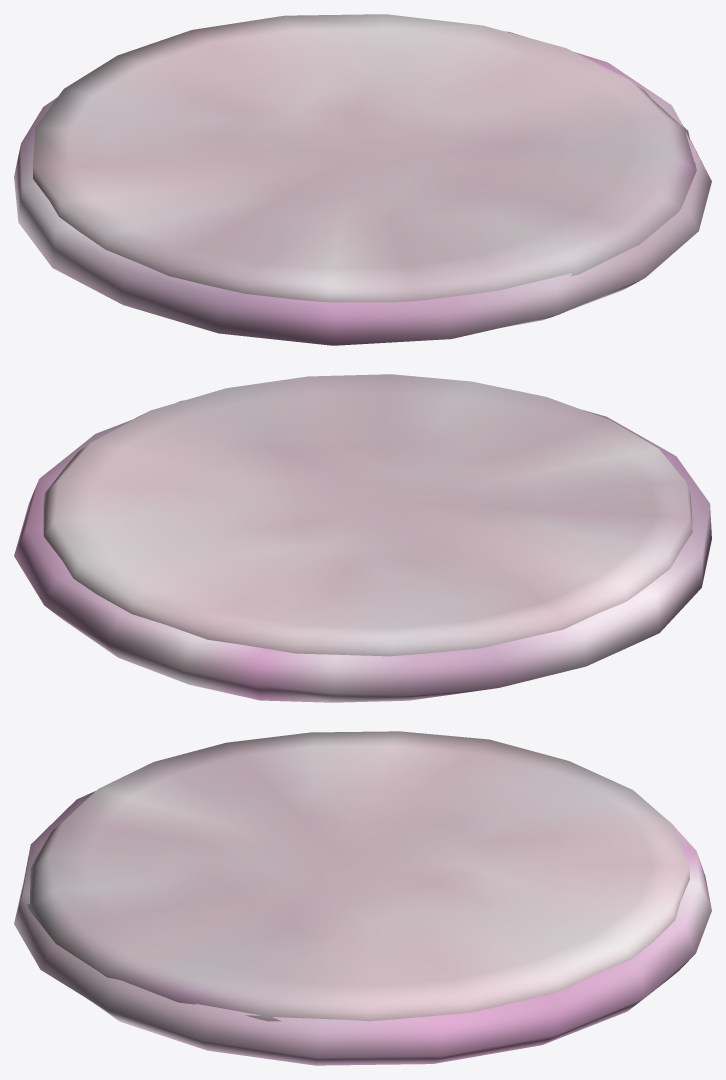
Rendered from BaseBallerina.fbx.
3 renders of one model, top to bottom at view 1: azimuth 30°, elevation 25°; view 2: azimuth 150°, elevation 25°; view 3: azimuth 270°, elevation 25°, orthographic.
Parts seen in each view (by area): view 1: BaseBallerina; view 2: BaseBallerina; view 3: BaseBallerina.
Part boxes in pixels (bbox=[...]): BaseBallerina: bbox=[14, 14, 711, 345]; BaseBallerina: bbox=[14, 374, 711, 702]; BaseBallerina: bbox=[14, 731, 711, 1065].
Size of the model in its own units: 115 by 10.74 by 115.
Materials: 1 (1 with a texture image).
